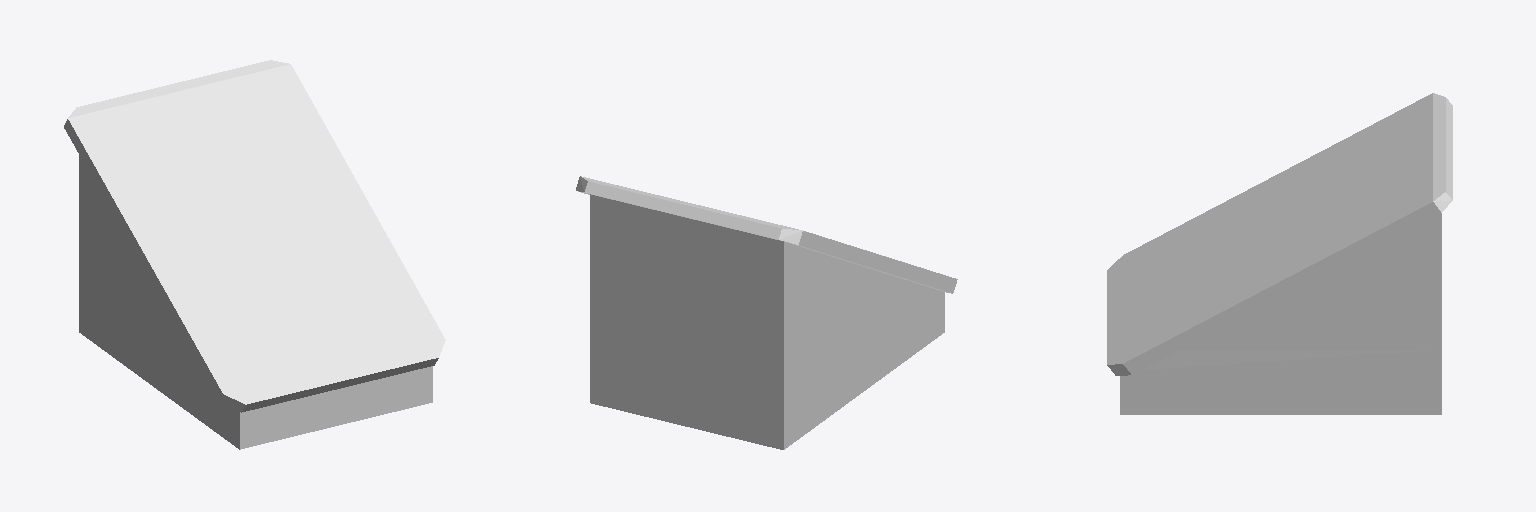
The model's file is cmn_obj_trickpanel30_SD.obj.
3 renders of one model, left to right at view 1: azimuth 30°, elevation 25°; view 2: azimuth 150°, elevation 25°; view 3: azimuth 270°, elevation 25°, orthographic.
Parts seen in each view (by area): view 1: polygon0, polygon1, polygon2, polygon3; view 2: polygon0, polygon2, polygon3, polygon1; view 3: polygon0, polygon1, polygon2, polygon3.
Part boxes in pixels (x1,y1,x2,y2): polygon0: (76, 60, 438, 449); polygon1: (105, 67, 387, 357); polygon2: (64, 60, 445, 411); polygon3: (102, 196, 168, 317); polygon0: (589, 180, 944, 449); polygon2: (576, 176, 957, 293); polygon3: (807, 249, 887, 307); polygon1: (613, 187, 757, 233); polygon0: (1107, 97, 1445, 414); polygon1: (1151, 111, 1452, 327); polygon2: (1107, 93, 1452, 375); polygon3: (1242, 236, 1398, 334).
Size of the model in its own units: 18.28 by 17.47 by 24.54.